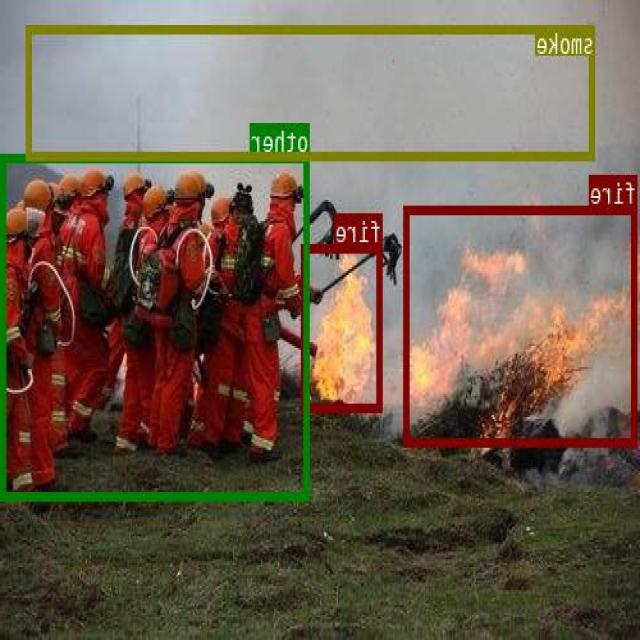fire: (404, 204, 638, 446), (303, 244, 384, 411)
other: (3, 153, 310, 498)
smoke: (28, 24, 596, 158)
